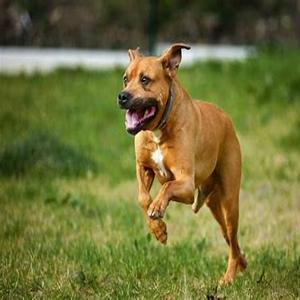dog: (121, 48, 253, 274)
